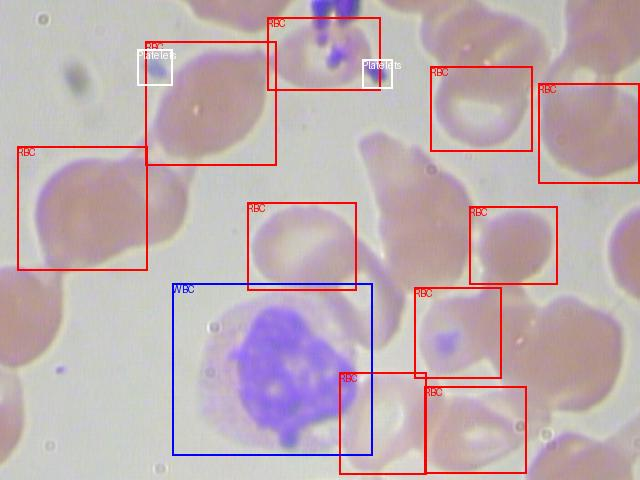Platelets: (137, 49, 172, 85), (362, 59, 392, 88)
RBC: (145, 41, 276, 165), (17, 146, 147, 270), (538, 83, 639, 183), (247, 202, 356, 290), (339, 372, 426, 474), (424, 386, 526, 473), (430, 66, 532, 151), (267, 17, 380, 90), (414, 287, 501, 378), (469, 206, 557, 284)
WBC: (172, 283, 372, 455)
